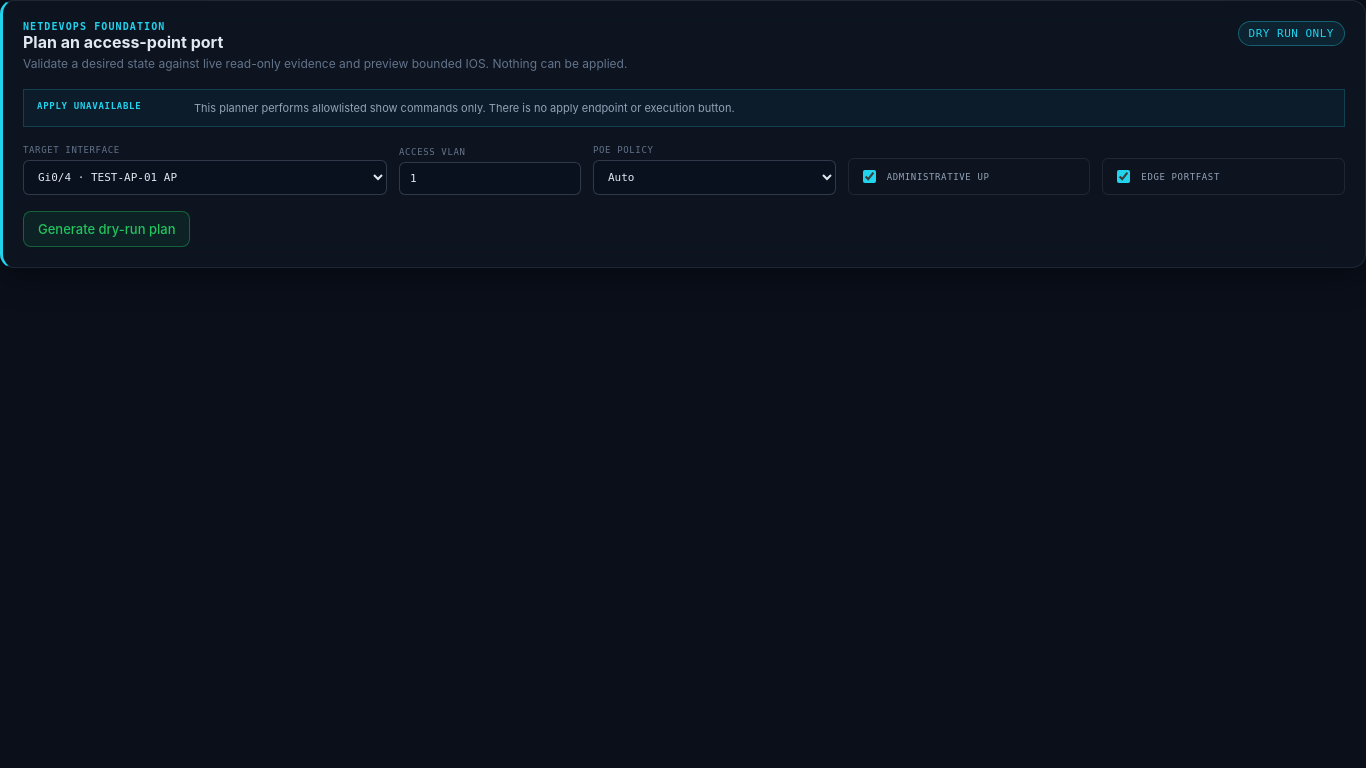
Test: DeploymentPlanPanel › keeps planning visibly non-executable
Expected: the text "DRY RUN ONLY" is shown, [1238, 21, 1345, 46]
Click the button "Generate dry-run plan".
click(107, 229)  # box [23, 211, 190, 247]
(page scrolled)
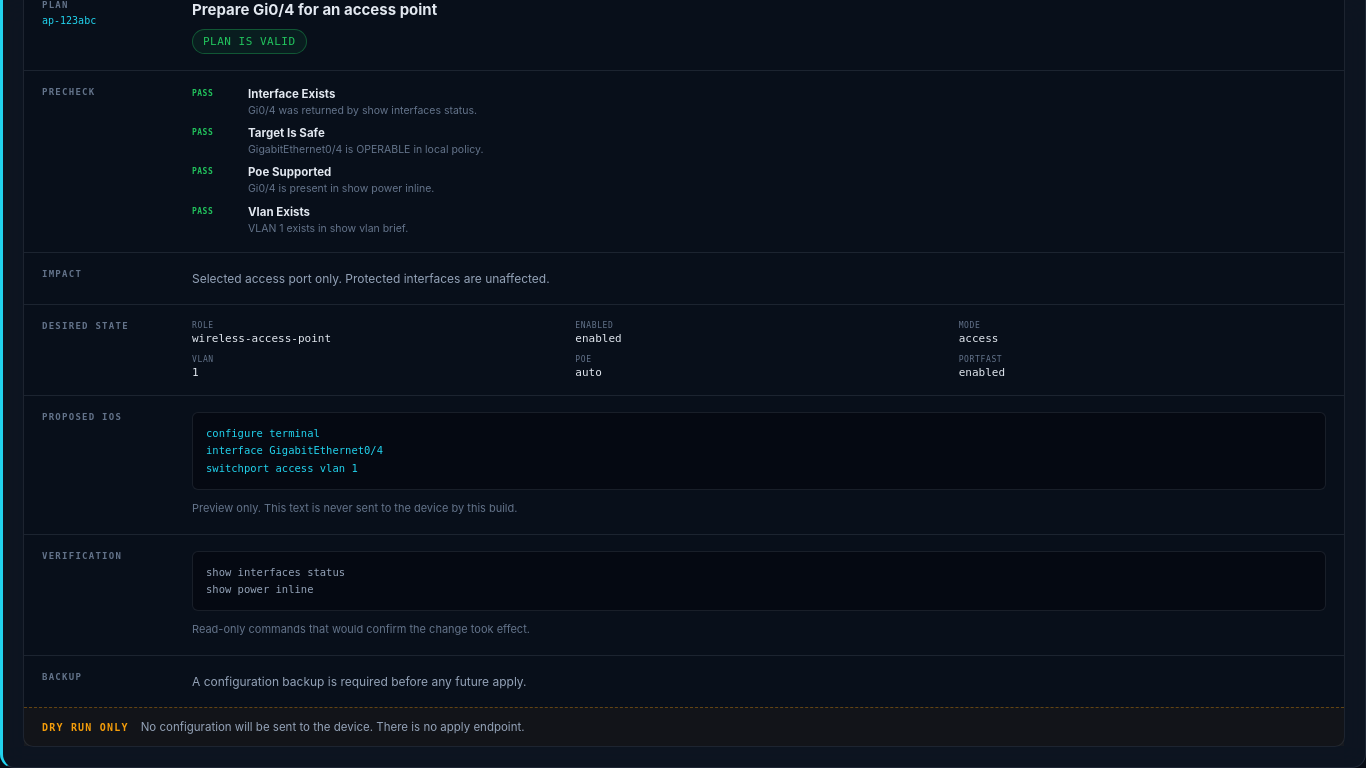
Result: the text "PLAN IS VALID" is shown at [192, 29, 307, 54]
Result: the text "No configuration will be sent to the device. There is no apply endpoint" is shown at [141, 720, 525, 734]
Result: the text "never sent to the device by this build" is shown at [192, 501, 517, 515]
